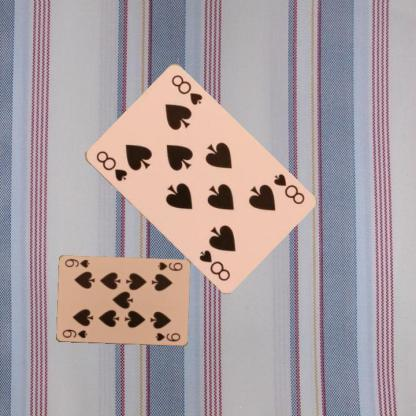8s: (270, 171, 306, 206), (93, 148, 128, 182)
9s: (60, 327, 88, 340), (155, 260, 183, 272)
